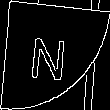N_N: (34, 28, 76, 82)
